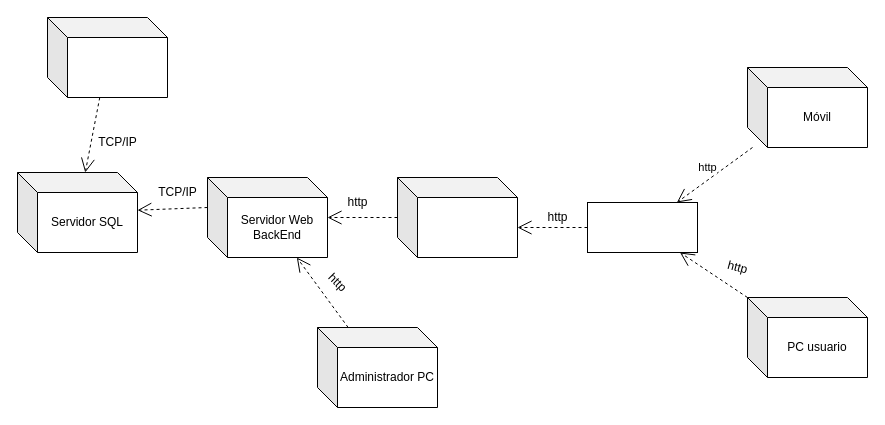
Image size: 885x425. Some labels were removed from this diagram. Here are the shapes that lost their labels. From the top down, the centre of each, then its label:
At point (107, 57): "Adquisición del Servidor".
At point (457, 217): "Servidor Web FrontEnd".
At point (642, 227): "Internet".
